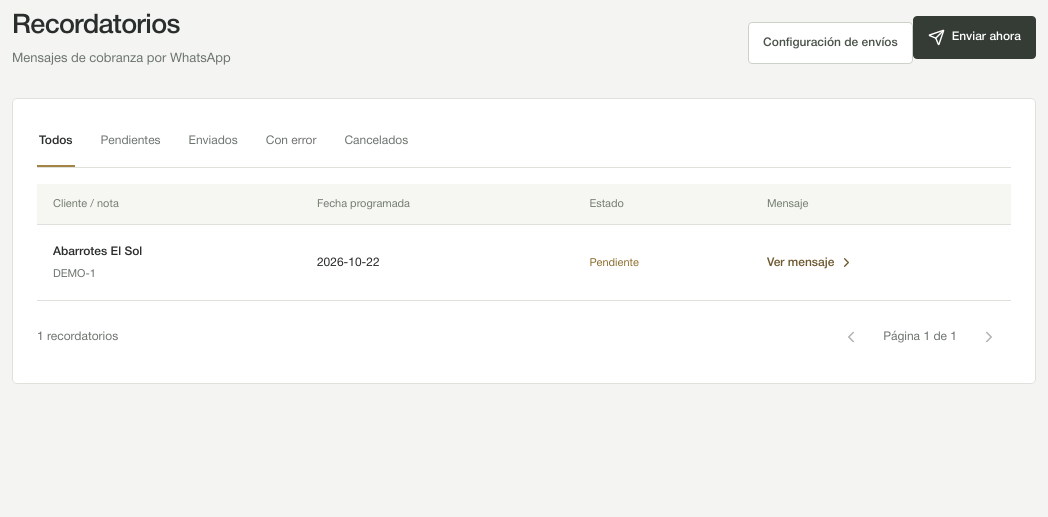
Test: ejecuta la corrida con "Enviar ahora" y muestra el resumen
Expected: the text "Abarrotes El Sol" is shown, [53, 246, 142, 257]
Click the button "Ver mensaje" at [811, 263], box [767, 245, 854, 281]
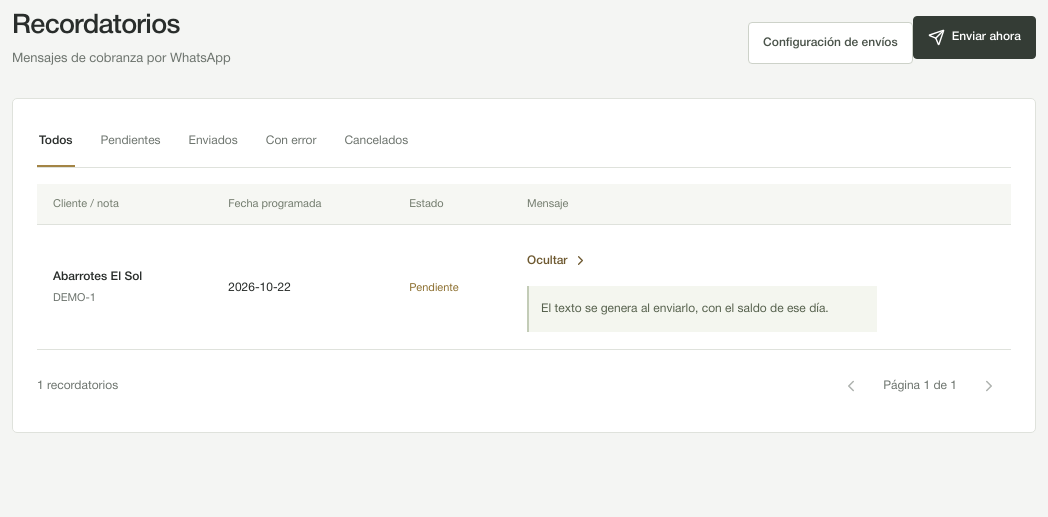
Expected: the text "El texto se genera al enviarlo, con el saldo de ese día." is shown, [541, 303, 829, 314]
Click the button "Enviar ahora" at [974, 37], box [913, 16, 1036, 58]
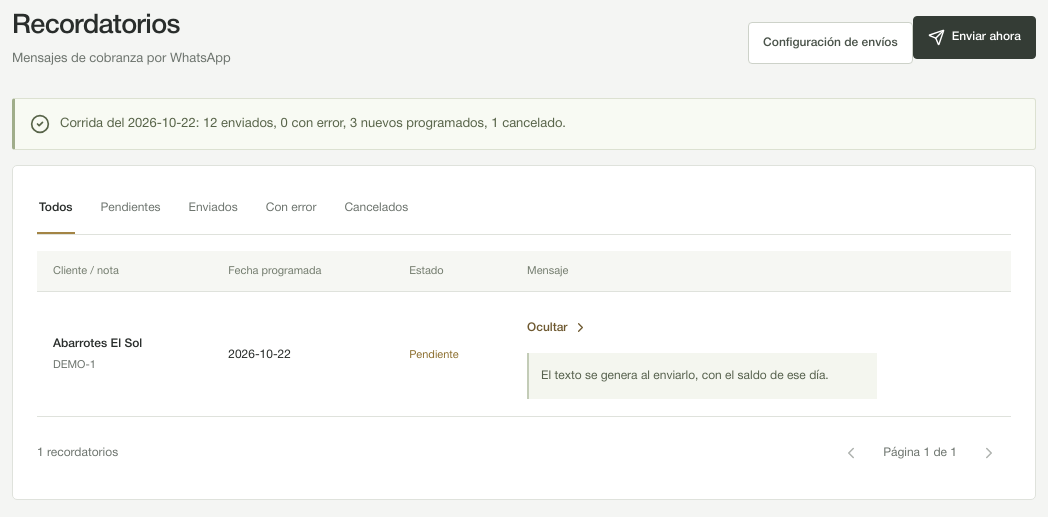
Expected: the text "Corrida del 2026-10-22: 12 enviados, 0 con error, 3 nuevos programados, 1 cancelado." is shown, [60, 118, 566, 130]
